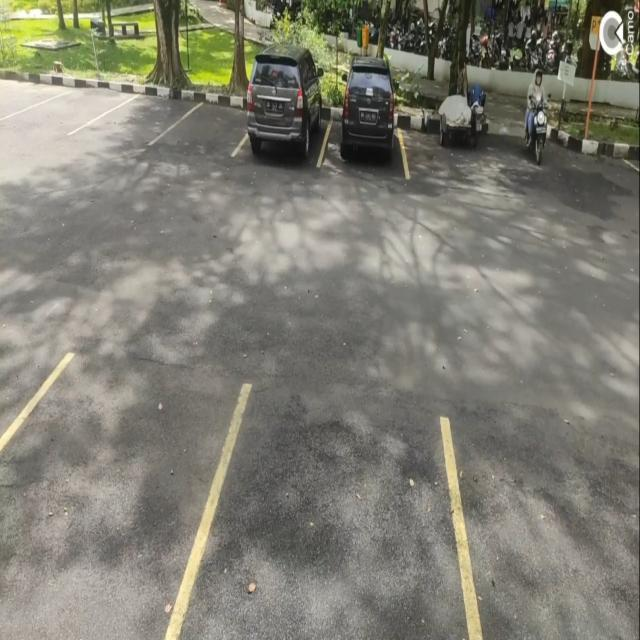Car: (238, 62, 322, 174), (324, 66, 406, 178)
Vacant: (214, 381, 466, 640), (0, 344, 214, 640), (96, 84, 176, 150), (20, 72, 100, 134), (173, 91, 242, 162)
